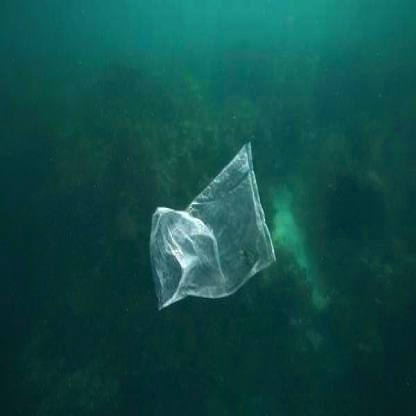pbag: (149, 140, 277, 312)
